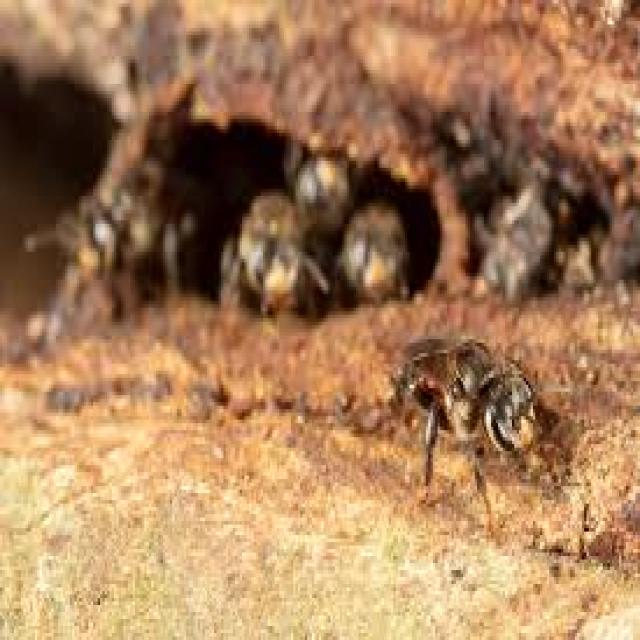Meliponula: (32, 124, 218, 322), (383, 332, 558, 499), (209, 164, 327, 327), (278, 102, 362, 250), (352, 184, 414, 298)
